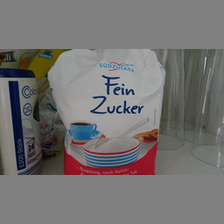sugar: (48, 49, 165, 174)
